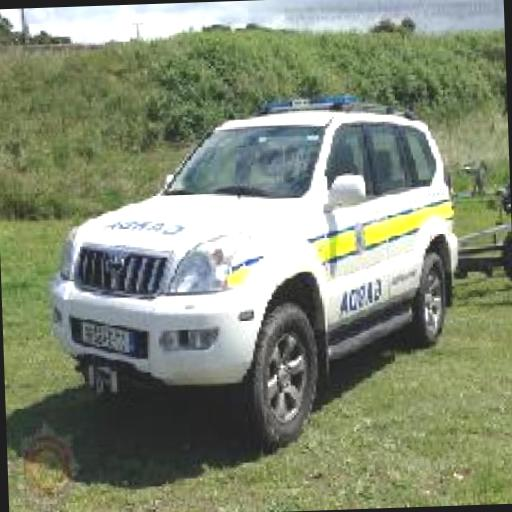Ambulance: (45, 83, 466, 452)
